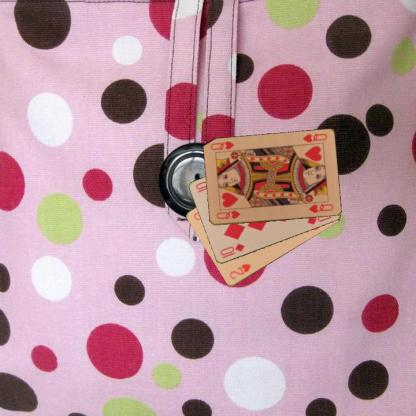10d: (217, 241, 246, 257)
2h: (227, 261, 252, 280)
Qh: (300, 131, 328, 144), (214, 208, 241, 221)
